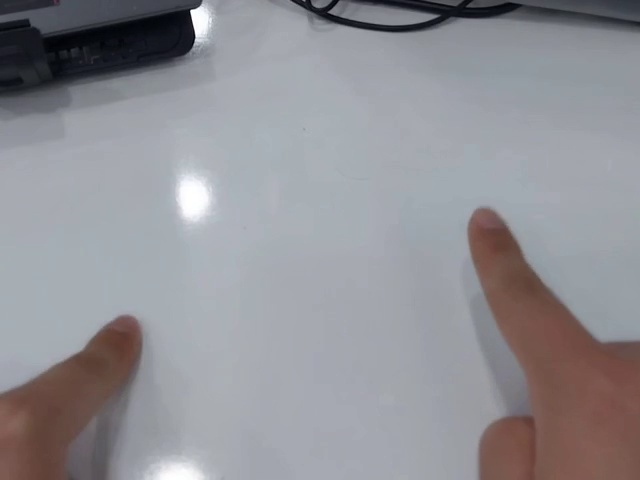fingers: (90, 312, 143, 368), (466, 205, 517, 259)
